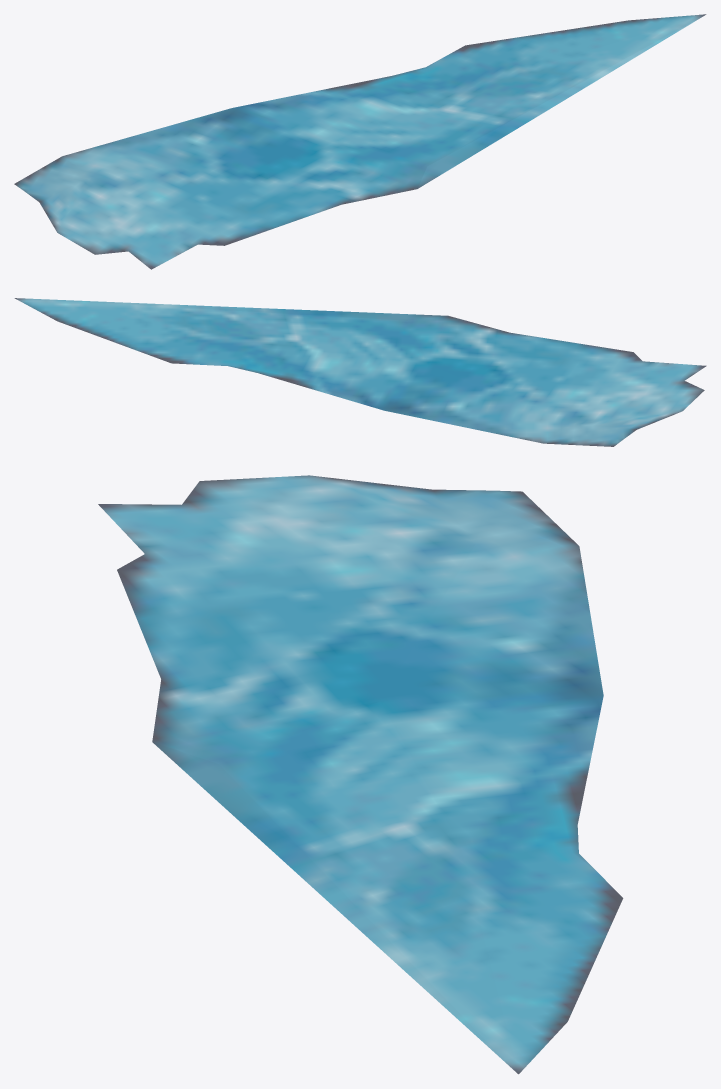
File: 5013_Item_bing_6.FBX
3 views of the same model, one above another, from view 1: azimuth 30°, elevation 25°; view 2: azimuth 150°, elevation 25°; view 3: azimuth 270°, elevation 25° (orthographic). The views are drawn at different scales.
Parts seen in each view (by area): view 1: 5013_Item_bing_6; view 2: 5013_Item_bing_6; view 3: 5013_Item_bing_6.
Part boxes in pixels (left/top/right/bottom): 5013_Item_bing_6: left=14, top=14, right=706, bottom=269; 5013_Item_bing_6: left=14, top=298, right=706, bottom=446; 5013_Item_bing_6: left=98, top=475, right=623, bottom=1074.
Size of the model in its own units: 219 by 0.636 by 80.86.
